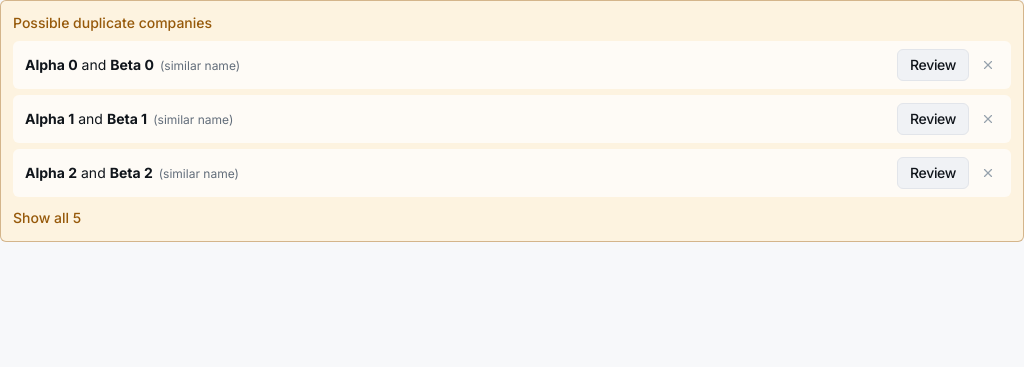
Test: DuplicateSuggestionsBanner › shows three pairs until the rest are asked for
expect the text "Alpha 0" is shown: met, box top-left (25, 56), bottom-right (78, 73)
expect the number of list items is 3: met, box top-left (13, 41), bottom-right (1011, 89); top-left (13, 95), bottom-right (1011, 143); top-left (13, 149), bottom-right (1011, 197)
Click the button "Show all 5".
click(47, 218)  # box top-left (13, 208), bottom-right (81, 228)
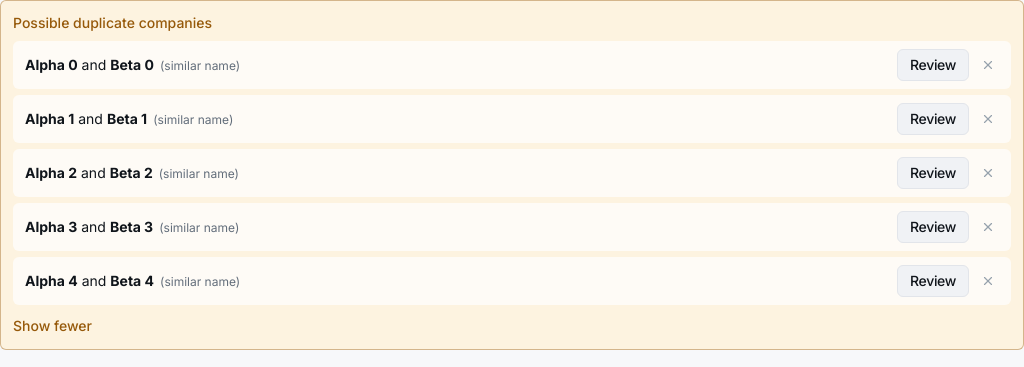
expect the number of list items is 5: met, box top-left (13, 41), bottom-right (1011, 89); top-left (13, 95), bottom-right (1011, 143); top-left (13, 149), bottom-right (1011, 197); top-left (13, 203), bottom-right (1011, 251); top-left (13, 257), bottom-right (1011, 305)
Click the button "Show fewer".
click(52, 326)  # box top-left (13, 316), bottom-right (92, 336)
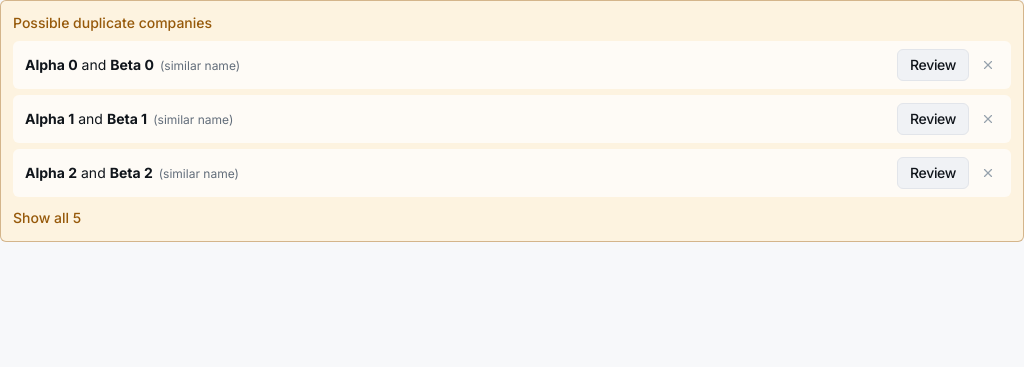
expect the number of list items is 3: met, box top-left (13, 41), bottom-right (1011, 89); top-left (13, 95), bottom-right (1011, 143); top-left (13, 149), bottom-right (1011, 197)
